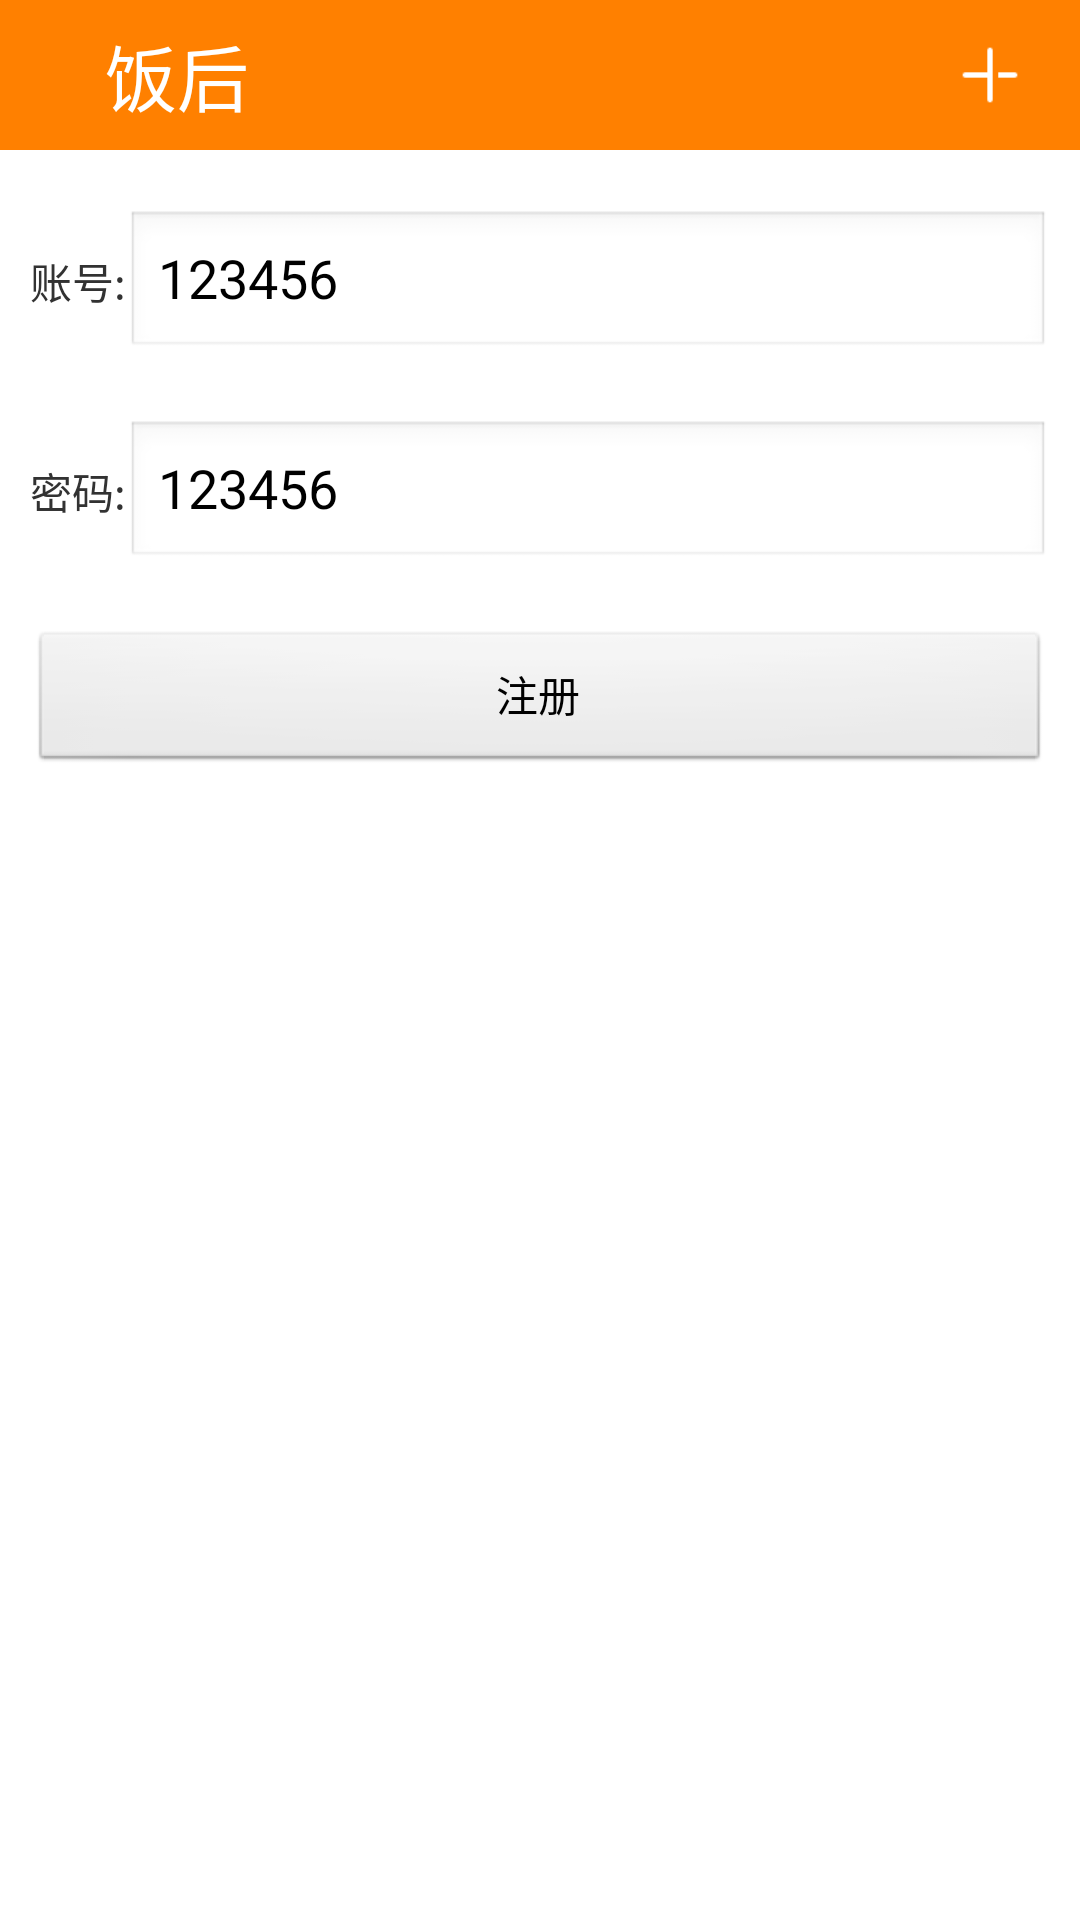

Screen size 1080x1920. Icon name, then its center in pixels as [x,y]:
homepage actionbar todo: [990,75]
